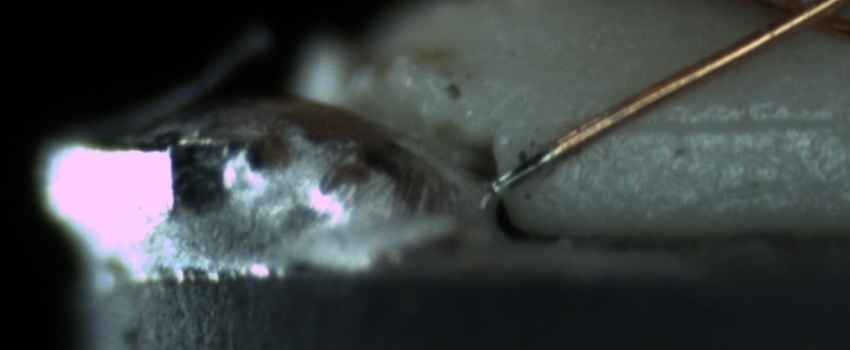CL: (754, 0, 844, 42)
DL: (602, 92, 850, 158)
TS: (488, 147, 556, 193)
